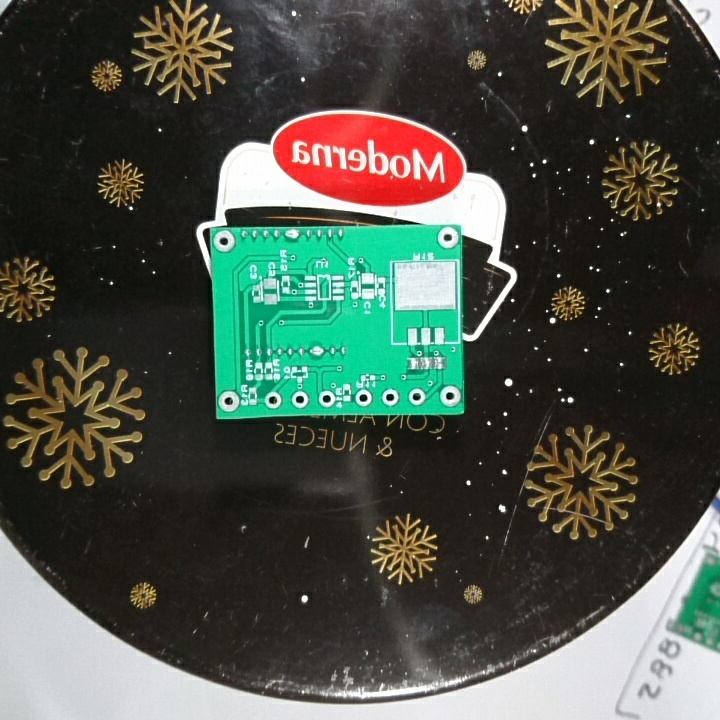F: (211, 228, 236, 254), (217, 389, 240, 415), (439, 384, 463, 408), (435, 226, 459, 249), (263, 389, 285, 411), (352, 387, 373, 409), (316, 389, 337, 410), (289, 389, 309, 410), (380, 387, 399, 408), (407, 386, 425, 406)
P: (308, 343, 327, 360), (282, 227, 301, 243)
